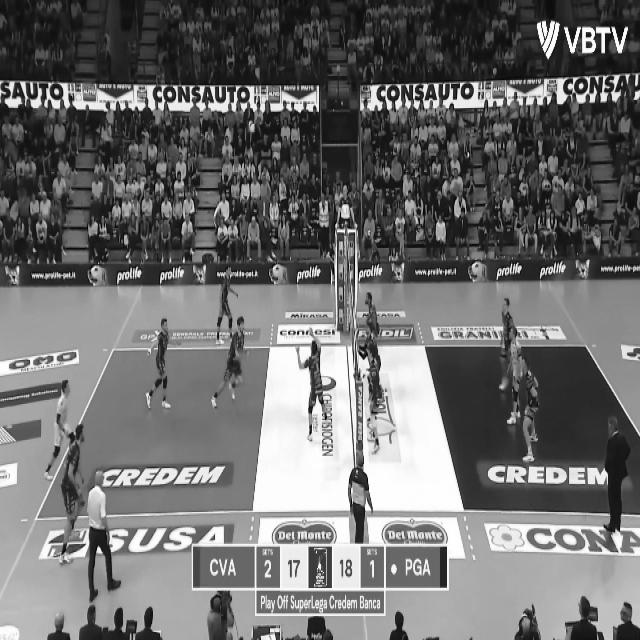volleyball court: (0, 275, 639, 637), (49, 340, 639, 515), (48, 339, 640, 513), (425, 342, 639, 514)
